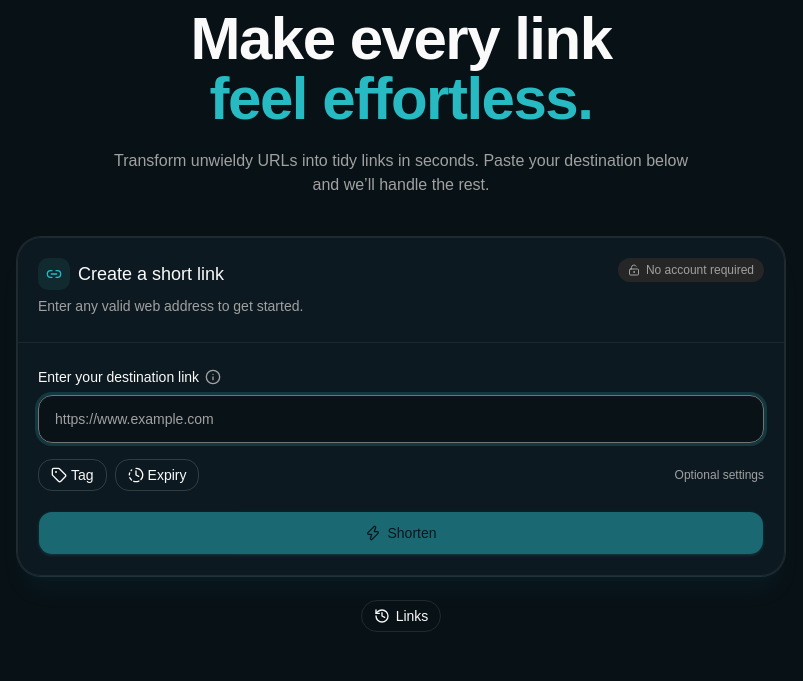
Test: HomePage validation feedback › shows the error on submit
Step 1. Type "https://example.com/a b" into the field with placeholder "https://www.example.com" → (401, 419), box [38,395,764,443]
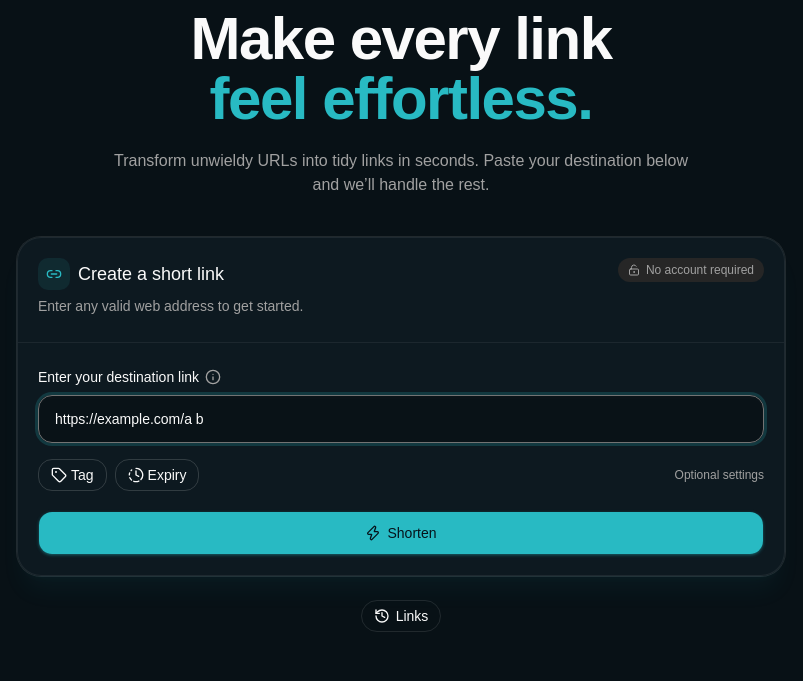
Step 2. Click the button "Shorten" → (401, 533), box [38,511,764,555]
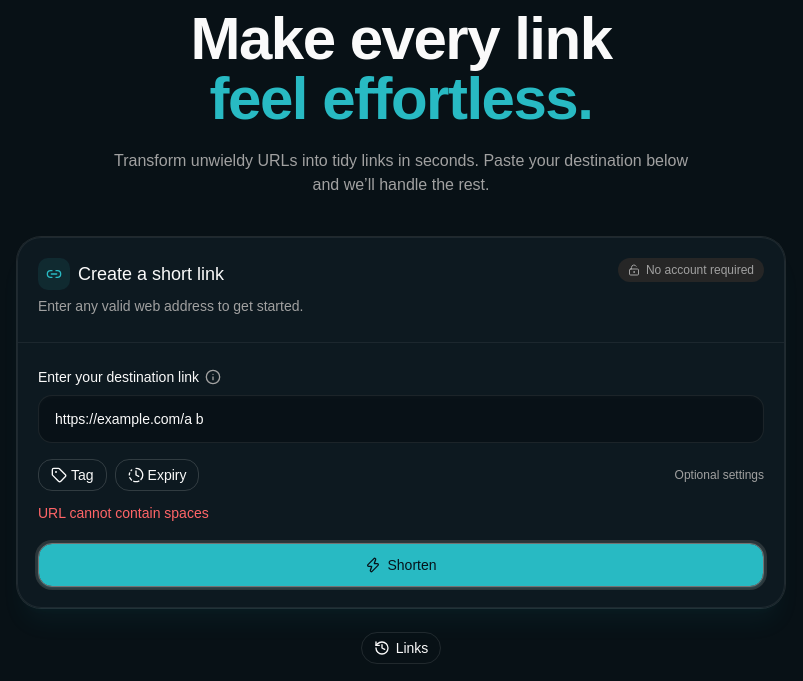
Expected: the text "URL cannot contain spaces" is shown, [38,505,209,521]
